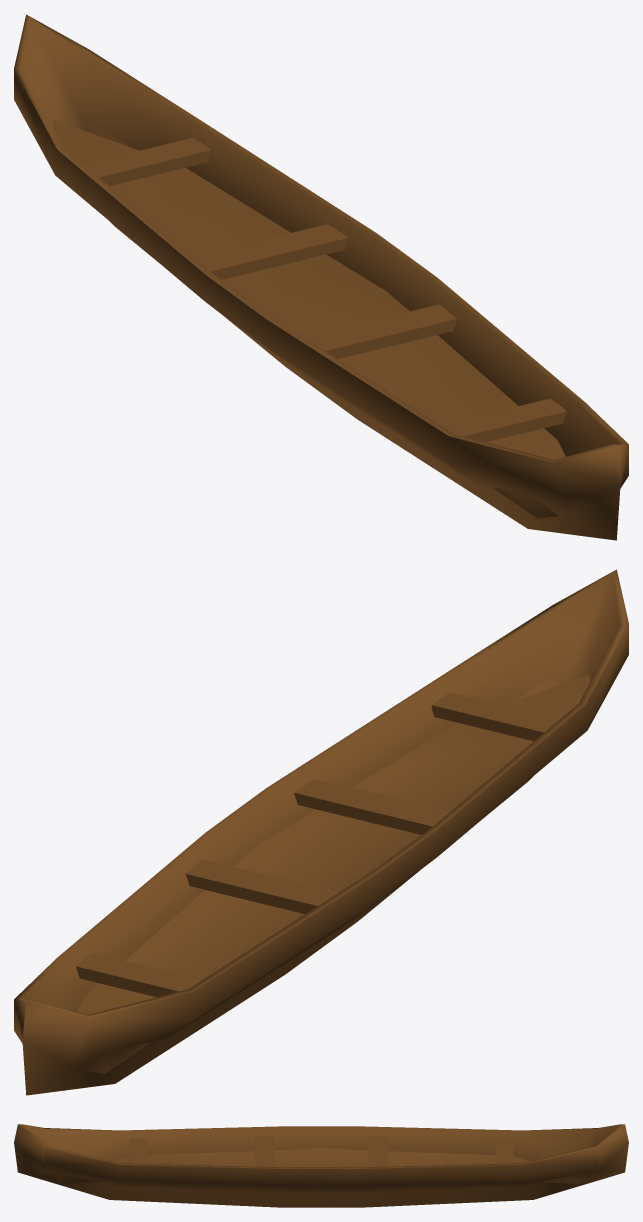
File: Canoe.fbx
3 renders of one model, top to bottom at view 1: azimuth 30°, elevation 25°; view 2: azimuth 150°, elevation 25°; view 3: azimuth 270°, elevation 25°, orthographic. The views are drawn at different scales.
Parts seen in each view (by area): view 1: Cylinder.001; view 2: Cylinder.001; view 3: Cylinder.001.
Boxes of the visible parts, x1,y1,x2,y2 form: Cylinder.001: (14, 14, 628, 540); Cylinder.001: (14, 569, 628, 1095); Cylinder.001: (14, 1124, 628, 1207).
Size of the model in its own units: 0.9168 by 0.8331 by 5.55.
